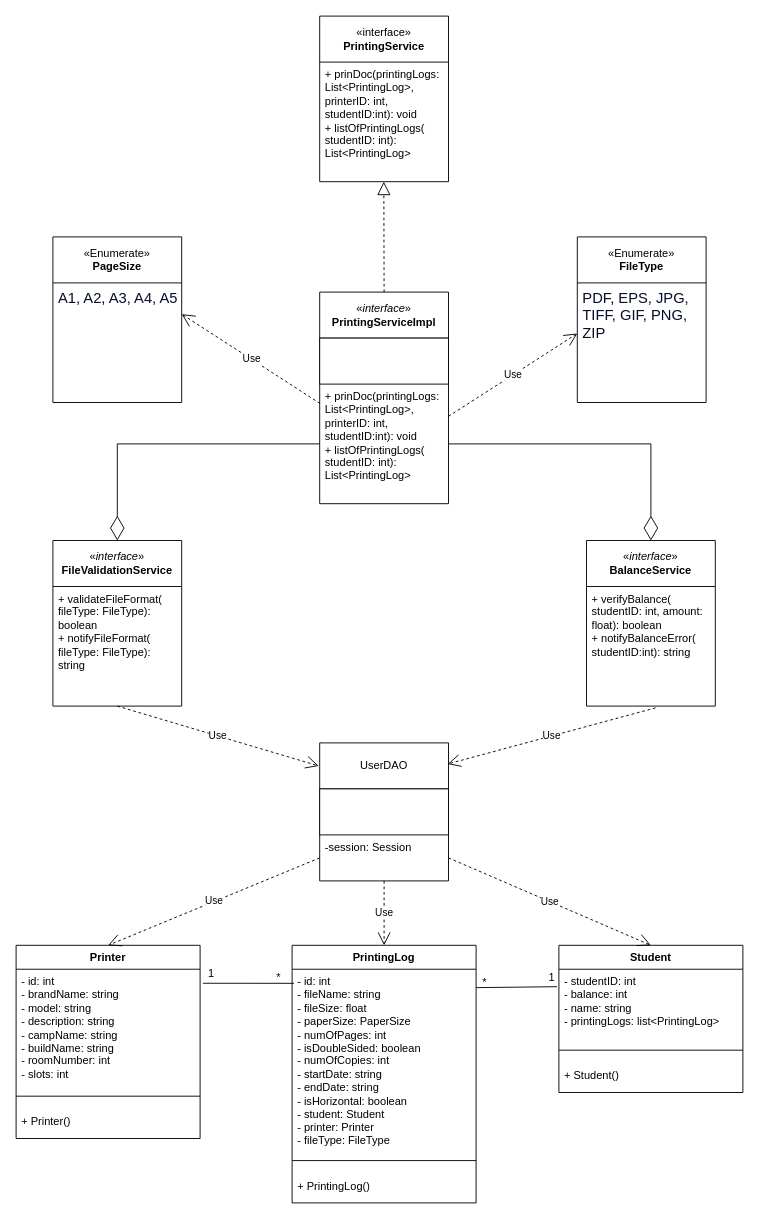
Some shapes in this 759 by 1222 pixel diagram are drawn without their labels. Here are the shapes that lost their labels. From the top down, the centre of each, then its label:
point 383,360: - fileValidationService - balanceService
point 383,811: + save(entity S): void + findAll(): List<S>
